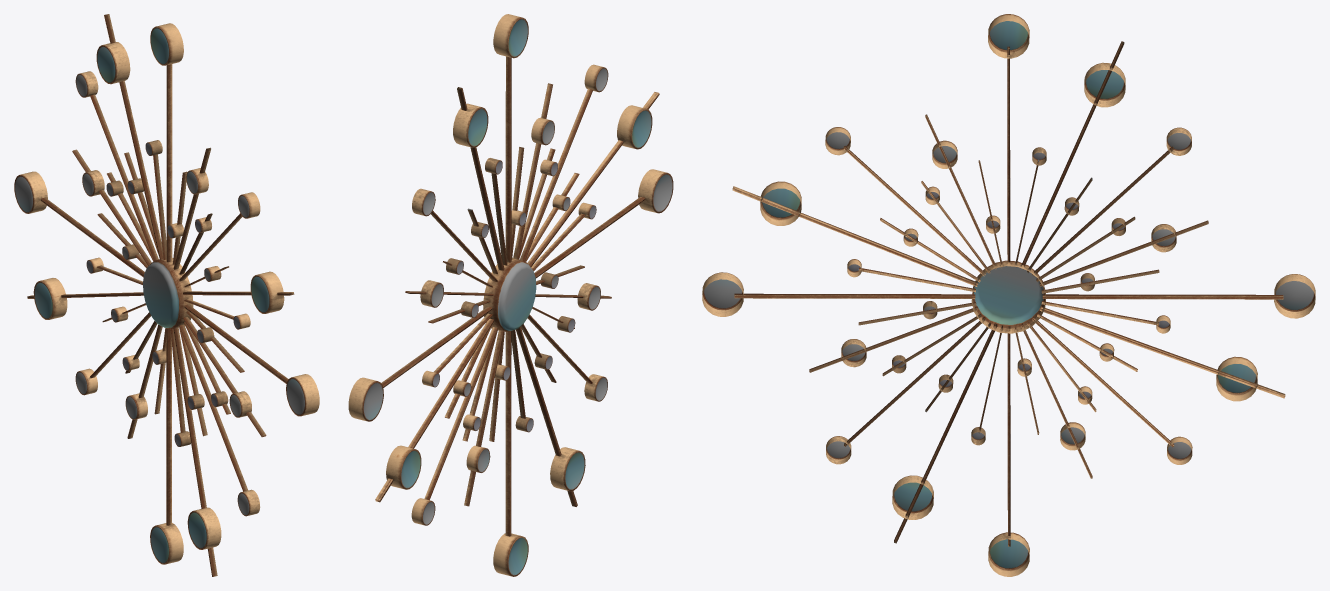
Rendered from Rehab.fbx.
The picture shows the model from 3 angles, left to right: view 1: azimuth 30°, elevation 25°; view 2: azimuth 150°, elevation 25°; view 3: azimuth 270°, elevation 25°; orthographic projection. The views are drawn at different scales.
Visible parts, largest first — view 1: Rehab_room_export.003; view 2: Rehab_room_export.003; view 3: Rehab_room_export.003.
Boxes of the visible parts, box(x1,y1,x2,y2) form: Rehab_room_export.003: box(14, 14, 319, 576); Rehab_room_export.003: box(348, 14, 673, 576); Rehab_room_export.003: box(702, 14, 1315, 576).
Bounding box in the file's own units: 5.14 × 104 × 104.
